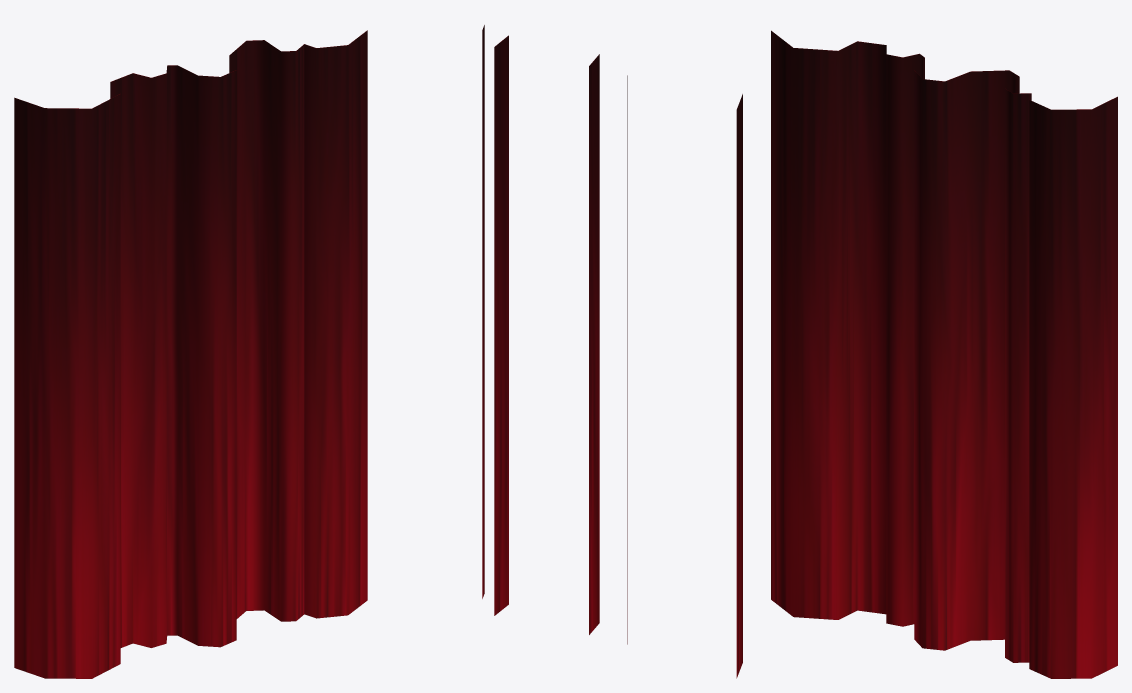
File: room_curtain.glb
3 renders of one model, left to right at view 1: azimuth 30°, elevation 25°; view 2: azimuth 150°, elevation 25°; view 3: azimuth 330°, elevation 25°, orthographic.
Visible parts, largest first — view 1: room_curtain_geo; view 2: room_curtain_geo; view 3: room_curtain_geo.
Boxes of the visible parts, x1=… form: room_curtain_geo: x1=14, y1=30, x2=367, y2=678; room_curtain_geo: x1=482, y1=25, x2=742, y2=678; room_curtain_geo: x1=771, y1=30, x2=1117, y2=678.
Bounding box in the file's own units: 10 × 16 × 1.59.
Materials: 1 (1 with a texture image).
